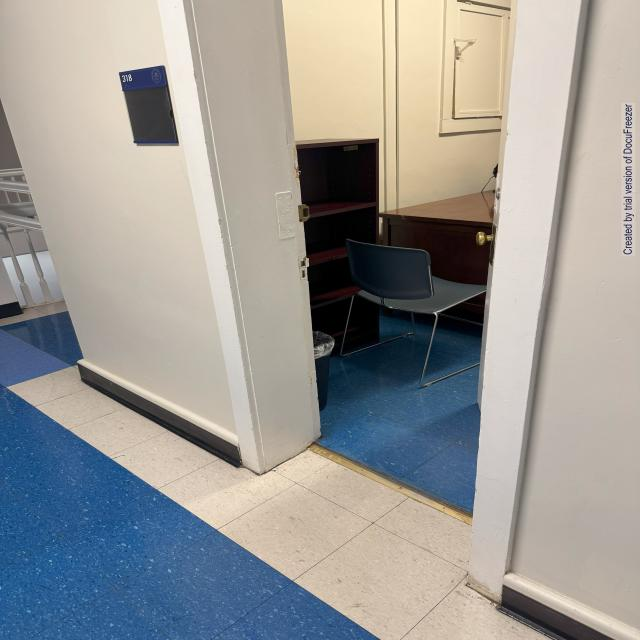chair: (342, 224, 484, 424)
